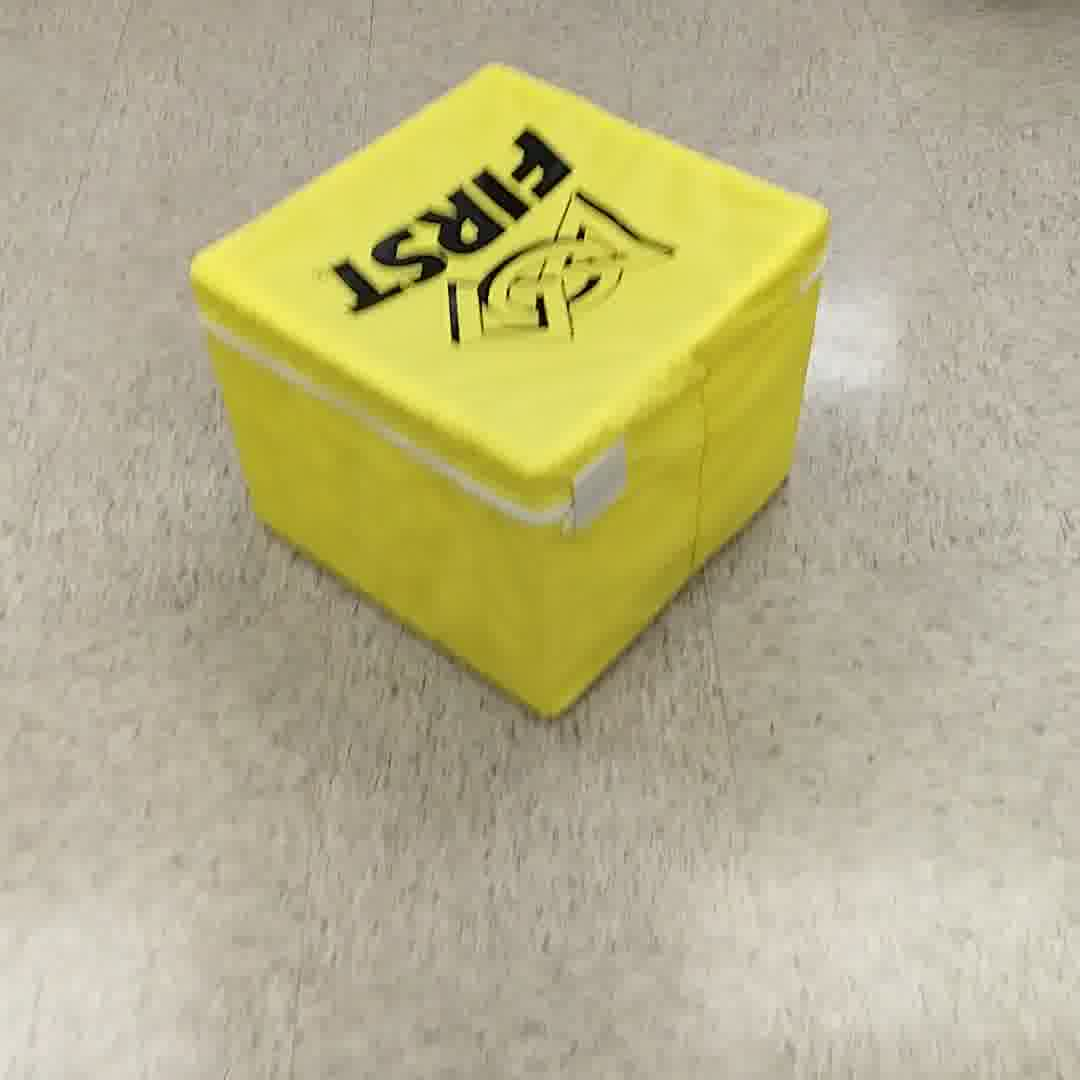box: (171, 64, 840, 715)
